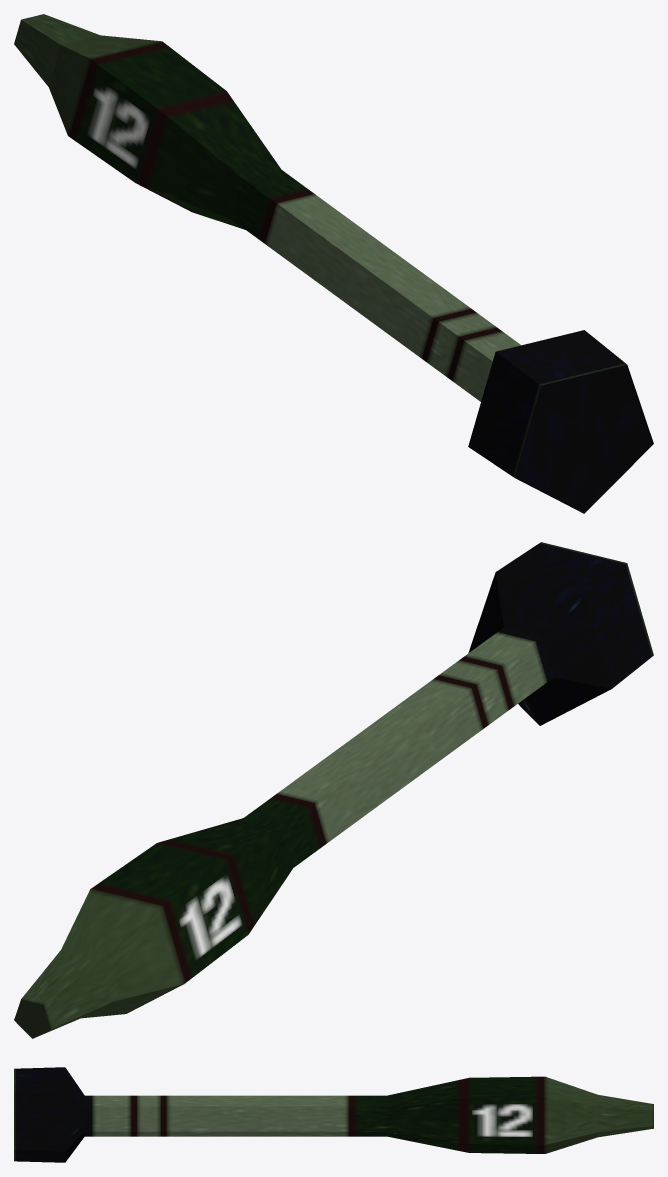
The model's file is rocket__rocket.glb.
3 renders of one model, top to bottom at view 1: azimuth 30°, elevation 25°; view 2: azimuth 150°, elevation 25°; view 3: azimuth 270°, elevation 25°, orthographic. The views are drawn at different scales.
Parts seen in each view (by area): view 1: rocket1; view 2: rocket1; view 3: rocket1.
Part boxes in pixels (bbox=[...]): rocket1: bbox=[14, 14, 653, 513]; rocket1: bbox=[14, 542, 653, 1038]; rocket1: bbox=[14, 1067, 653, 1162].
Size of the model in its own units: 0.1924 by 0.183 by 1.28.
1 material, 1 textured.
